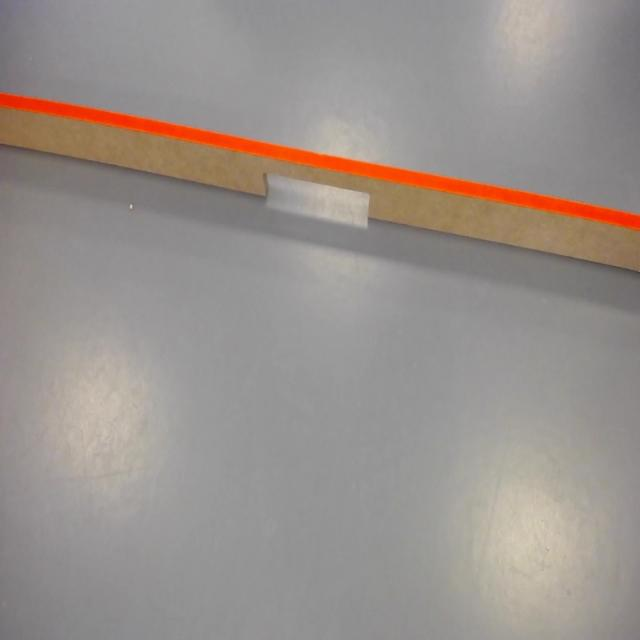big-goal: (264, 171, 369, 220)
obstacle: (0, 91, 640, 274)
